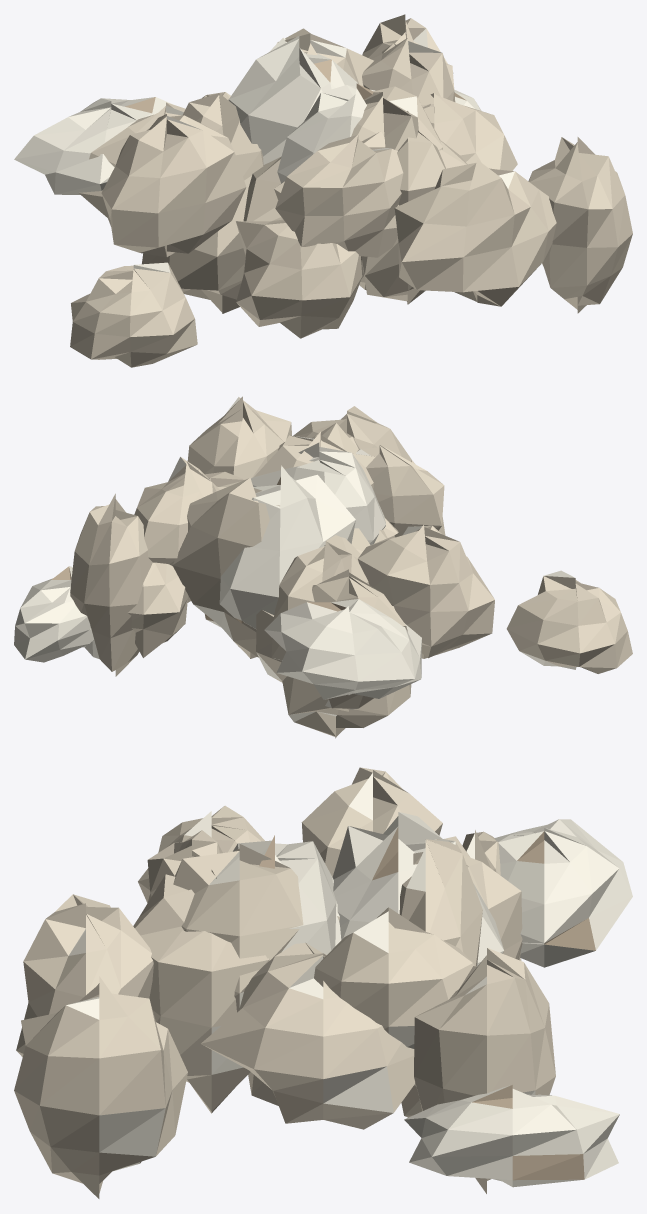
File: camphor.glb
The picture shows the model from 3 angles, top to bottom: view 1: azimuth 30°, elevation 25°; view 2: azimuth 150°, elevation 25°; view 3: azimuth 270°, elevation 25°; orthographic projection. The views are drawn at different scales.
Visible parts, largest first — view 1: camphor; view 2: camphor; view 3: camphor.
Boxes of the visible parts, <box> form: camphor: <box>14,14,632,367</box>; camphor: <box>14,396,632,738</box>; camphor: <box>14,767,632,1198</box>.
Size of the model in its own units: 1.18 by 0.589 by 0.9766.
